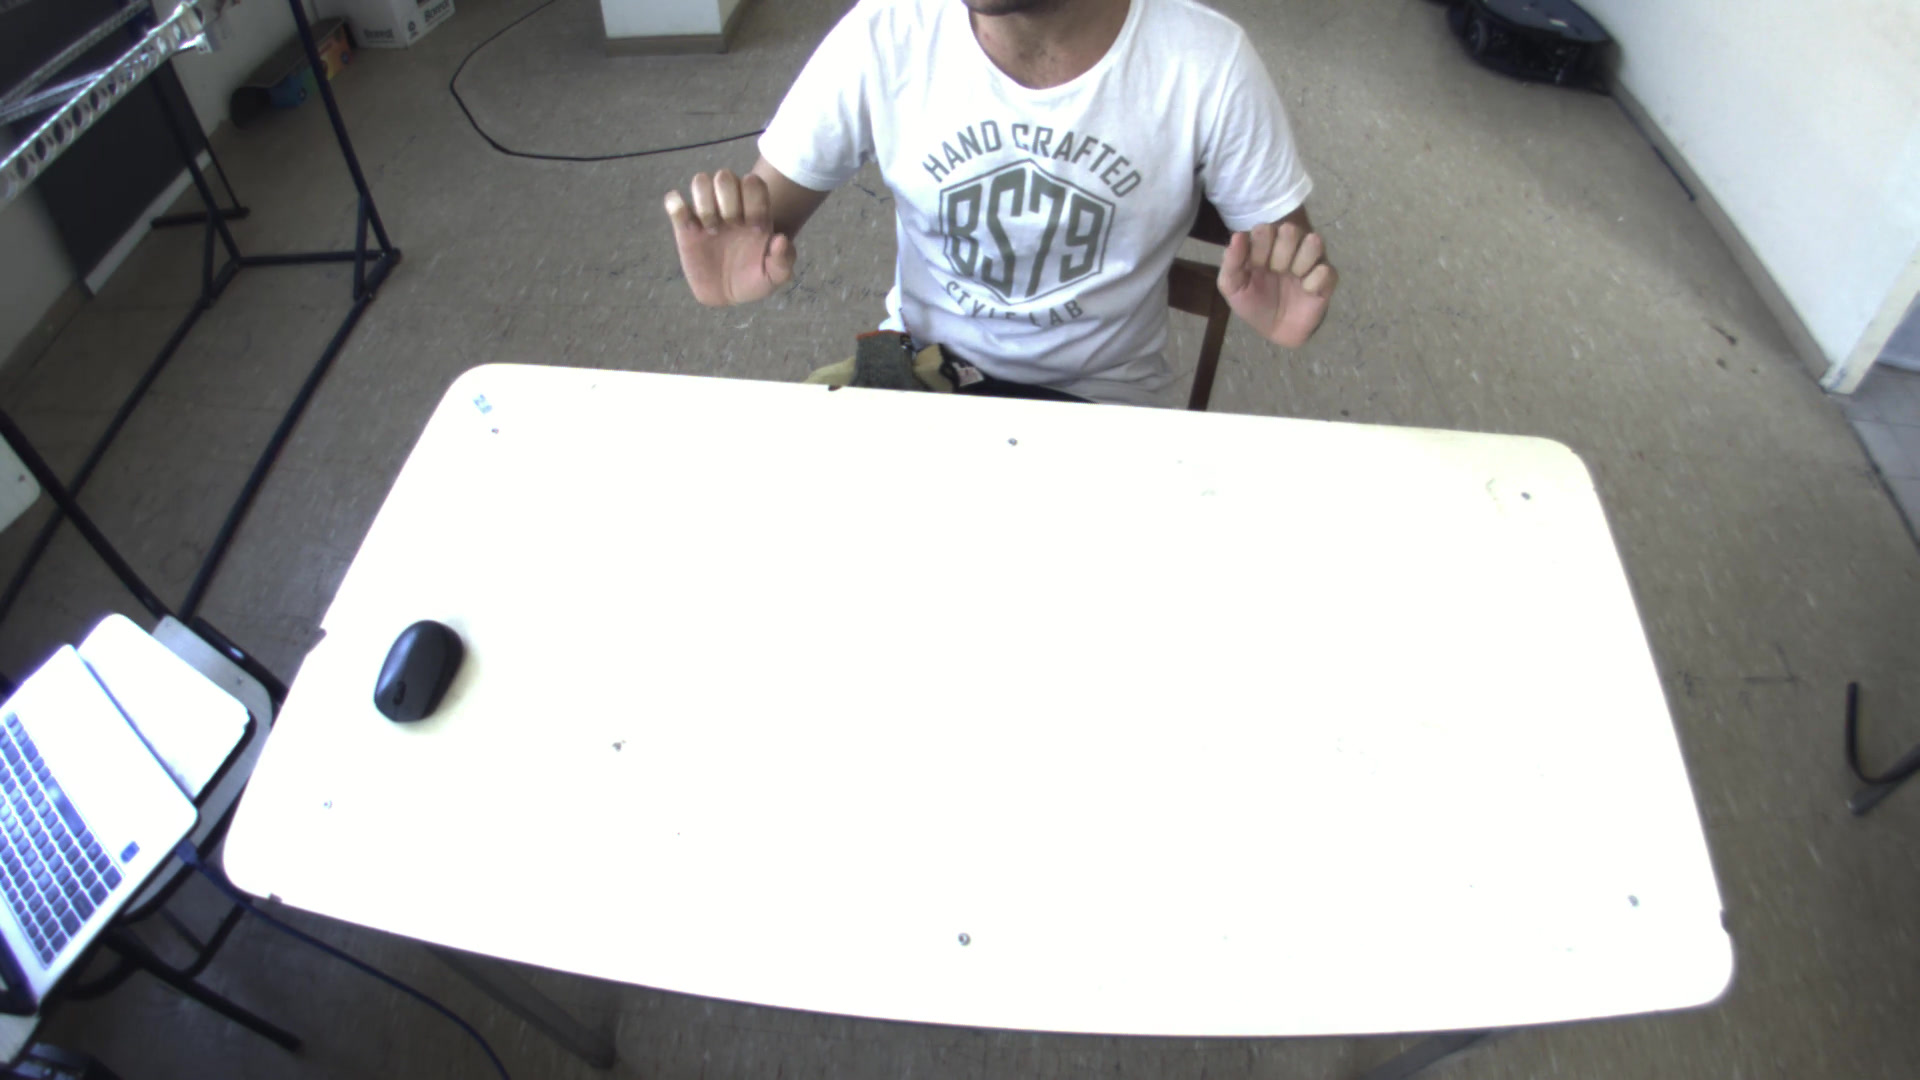hand: (644, 152, 799, 314), (1213, 210, 1354, 349)
